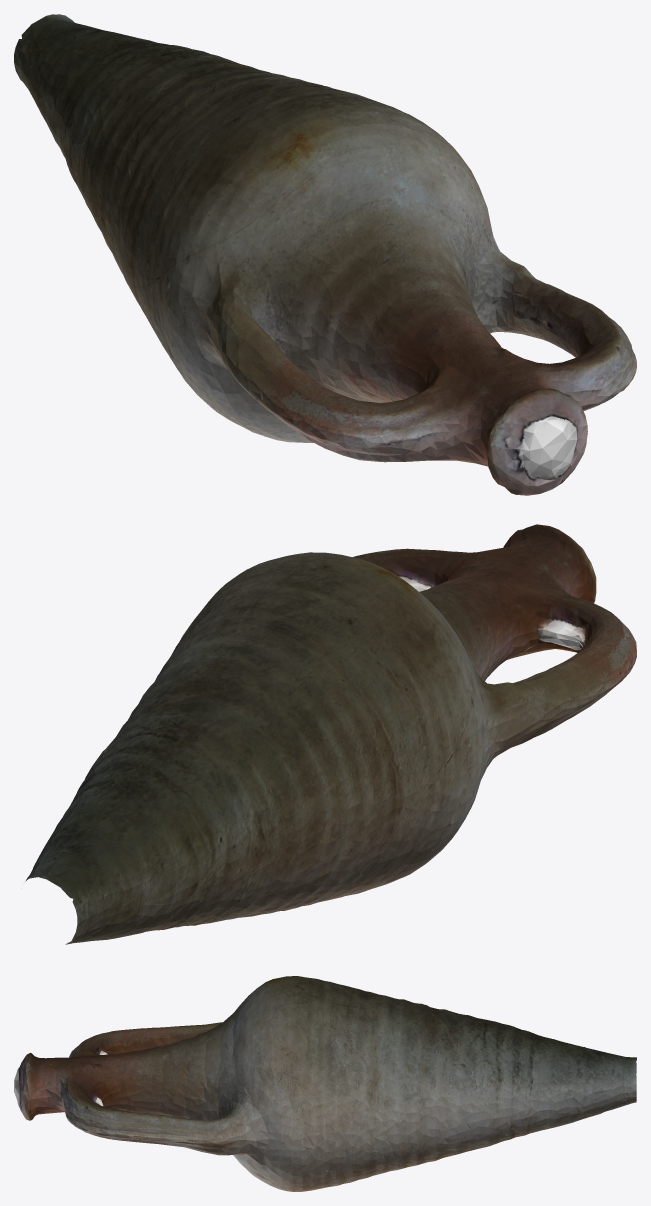
File: Amfor_1.glb
The picture shows the model from 3 angles, top to bottom: view 1: azimuth 30°, elevation 25°; view 2: azimuth 150°, elevation 25°; view 3: azimuth 270°, elevation 25°; orthographic projection. The views are drawn at different scales.
Size of the model in its own units: 3.26 by 2.99 by 8.6.
1 material, 1 textured.
